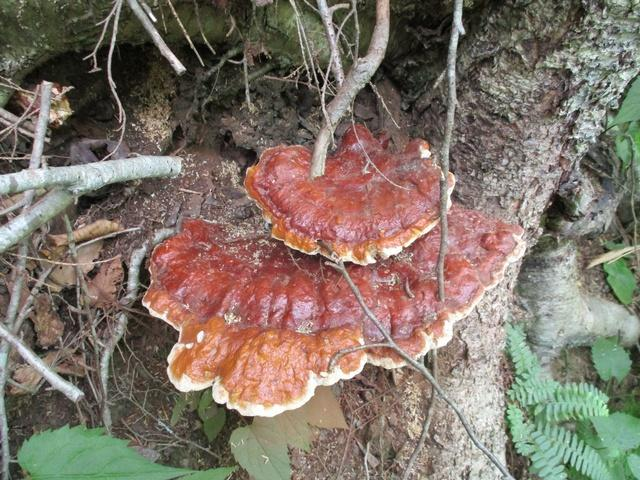Non-edible Mushroom: (144, 207, 516, 404), (242, 121, 455, 266)
